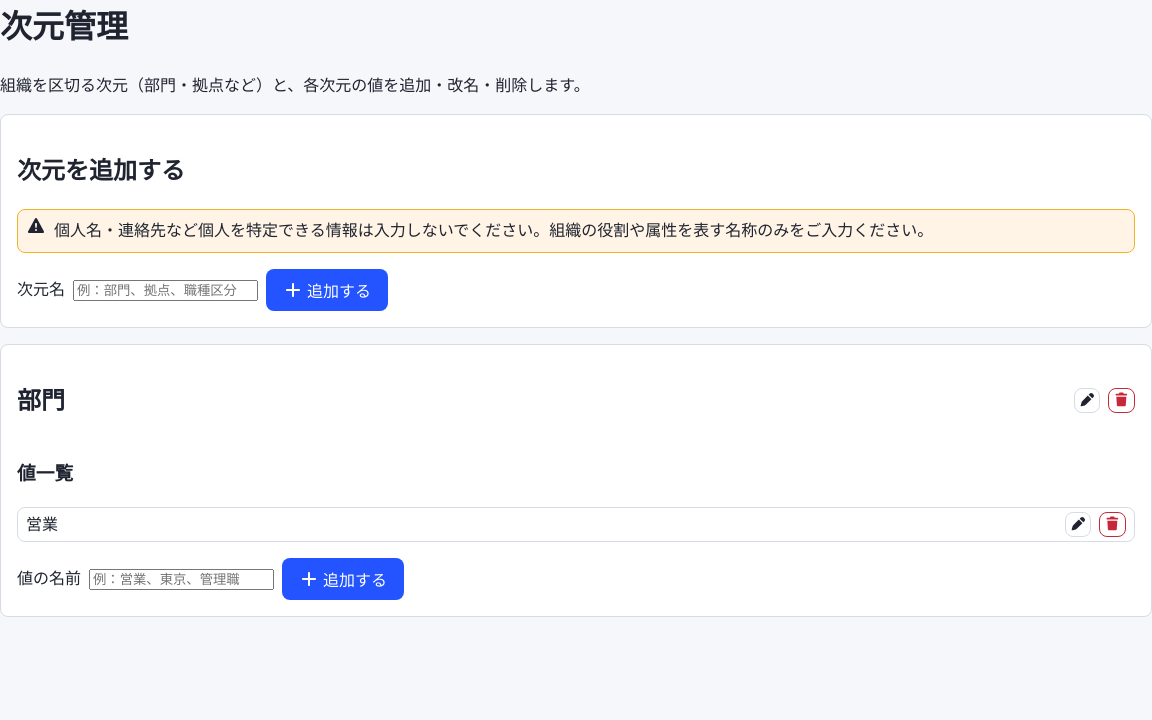
DimensionsPage › 次元削除ボタンで影響プレビューを取得し、確認ダイアログに件数を表示する
This screenshot has width=1152, height=720.
Expected: the heading "部門" is shown, [17,381,65,419]
Click the button named "部門を削除する".
click(1122, 400)  # box [1108,388,1135,413]
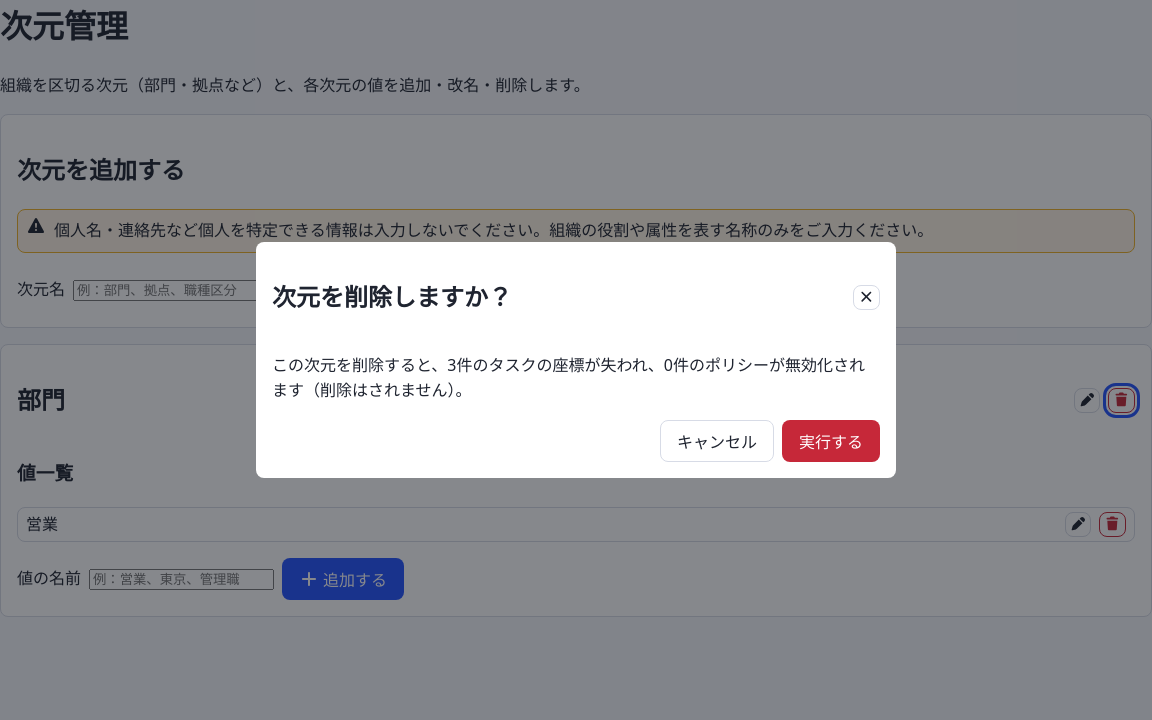
Result: the text "この次元を削除すると、3件のタスクの座標が失われ、0件のポリシーが無効化されます（削除はされません）。" is shown at [272,352,880,404]
